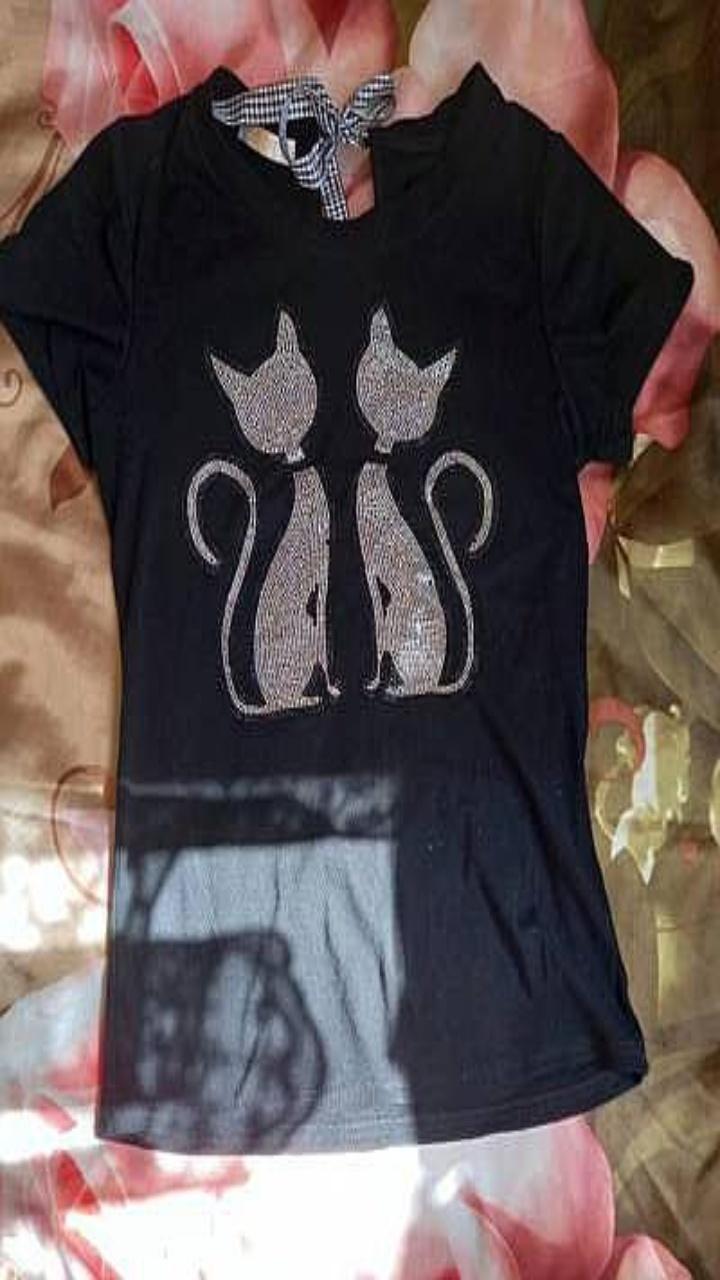T-Shirt: (0, 61, 693, 1153)
